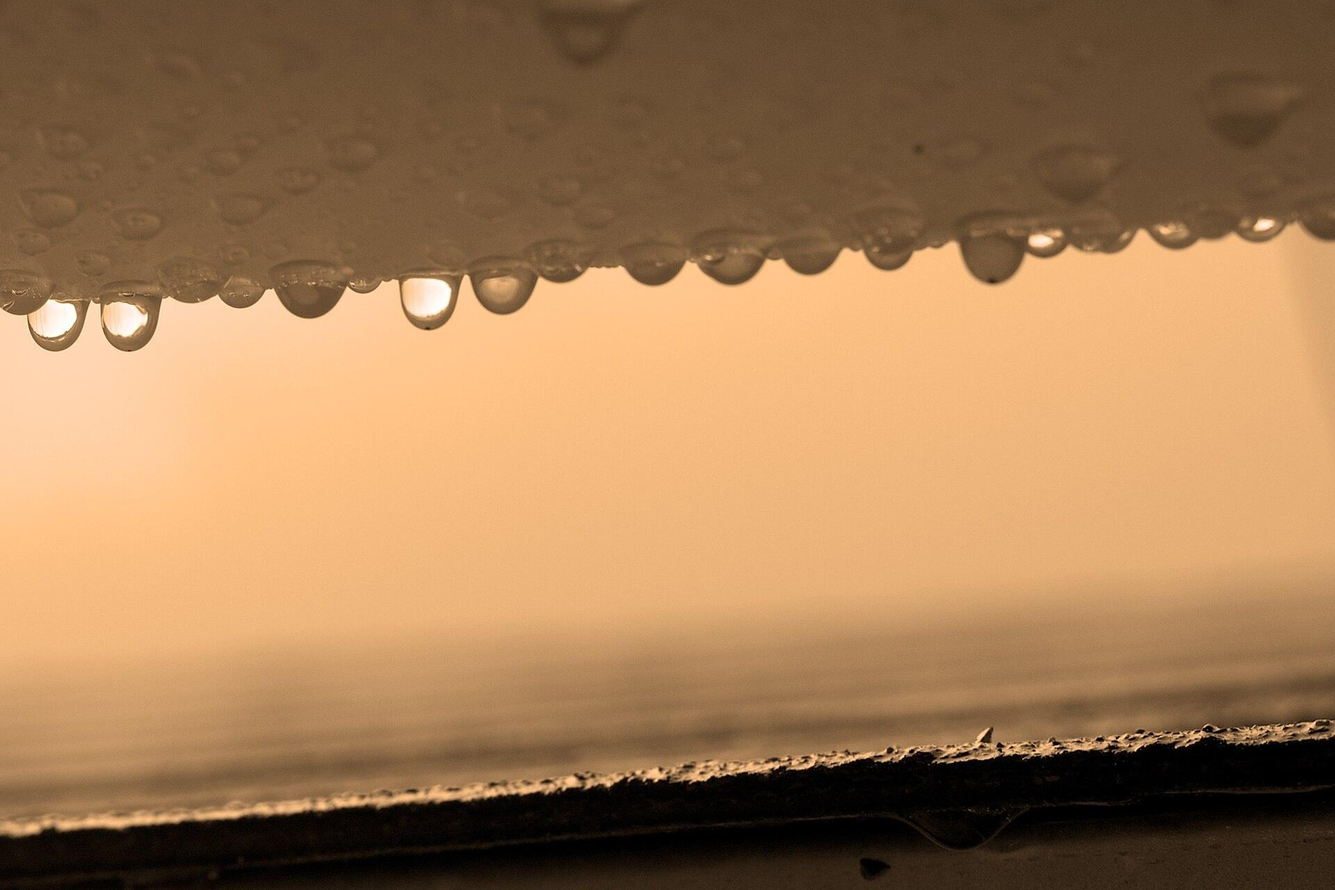water drop: (402, 273, 463, 329), (546, 17, 618, 63), (28, 299, 87, 351), (101, 297, 160, 349), (475, 269, 538, 315), (273, 282, 346, 321), (961, 236, 1021, 282), (1210, 111, 1279, 148), (780, 245, 842, 273), (699, 257, 765, 283), (0, 278, 50, 312), (1050, 174, 1105, 203), (1073, 229, 1132, 253), (623, 262, 684, 285), (864, 245, 915, 269), (1241, 212, 1288, 238), (219, 283, 265, 309), (1024, 226, 1066, 253), (1151, 222, 1195, 247), (169, 282, 216, 304)
